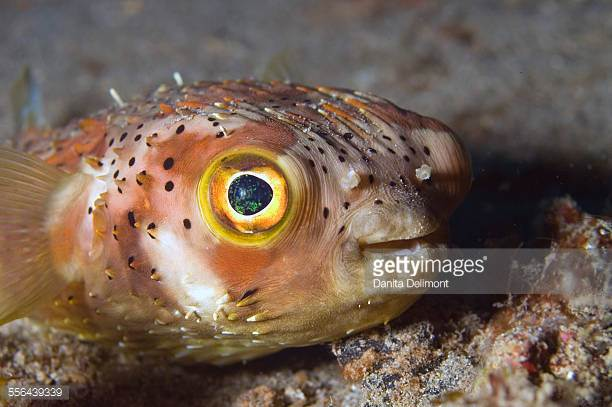Diodon_holocanthus: (2, 30, 499, 383)
